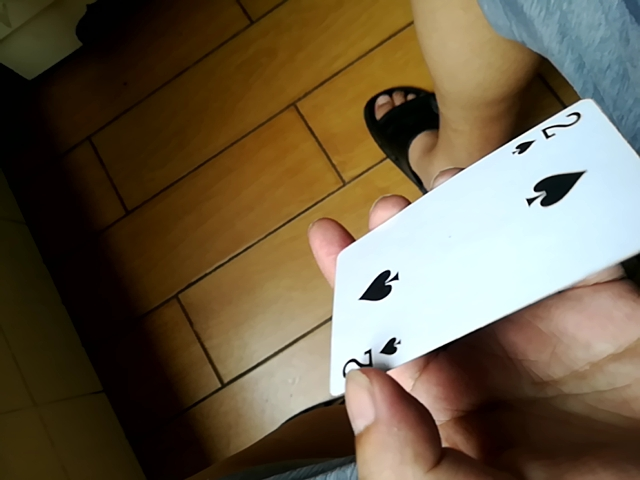ht 2: (326, 94, 639, 393)
